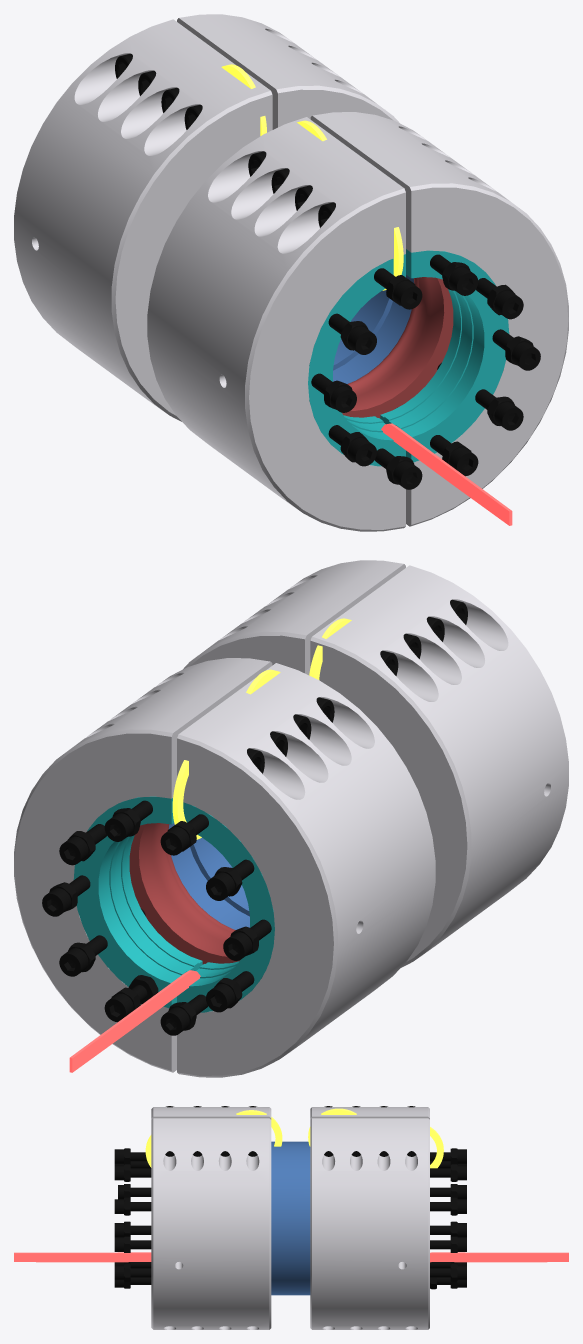
3 renders of one model, top to bottom at view 1: azimuth 30°, elevation 25°; view 2: azimuth 150°, elevation 25°; view 3: azimuth 270°, elevation 25°, orthographic. The views are drawn at different scales.
Visible parts, largest first — view 1: clamshell.001, clamshell.003, clamshell.000, spigot ring 0, clamshell.002, radial wedge seal 0, spigot ring 1, joining stock, path1011, joining stock cutaway, bolts_zl.006, bolts_zl.003 (+8 smaller); view 2: clamshell.003, clamshell.001, clamshell.002, spigot ring 2, clamshell.000, radial wedge seal 1, spigot ring 3, path1011, joining stock, joining stock cutaway, bolts_zr.004, bolts_zr.001 (+9 smaller); view 3: clamshell.000, clamshell.002, joining stock cutaway, path1011, joining stock, clamshell.001, clamshell.003, bolts_zl.003, bolts_zl.006, bolts_zr.004, bolts_zr.007, bolts_zl.004 (+10 smaller).
Boxes of the visible parts, box(x1,y1,x2,y2) form: clamshell.001: box(147, 117, 405, 531); clamshell.003: box(14, 19, 272, 421); clamshell.000: box(310, 112, 568, 526); spigot ring 0: box(380, 249, 509, 462); clamshell.002: box(177, 14, 399, 129); radial wedge seal 0: box(342, 277, 453, 418); spigot ring 1: box(308, 254, 405, 466); joining stock: box(333, 275, 414, 383); path1011: box(381, 423, 512, 525); joining stock cutaway: box(333, 308, 390, 379); bolts_zl.006: box(437, 362, 523, 430); bolts_zl.003: box(430, 254, 478, 295); clamshell.003: box(177, 663, 435, 1077); clamshell.001: box(310, 565, 568, 967); clamshell.002: box(14, 658, 272, 1072); spigot ring 2: box(73, 796, 202, 1008); clamshell.000: box(183, 560, 405, 675); radial wedge seal 1: box(129, 823, 239, 964); spigot ring 3: box(177, 802, 274, 1012); path1011: box(69, 970, 200, 1072); joining stock: box(168, 823, 249, 929); joining stock cutaway: box(171, 846, 249, 926); bolts_zr.004: box(59, 908, 145, 976); bolts_zr.001: box(206, 971, 254, 1012); clamshell.000: box(151, 1118, 271, 1329); clamshell.002: box(310, 1118, 429, 1329); joining stock cutaway: box(271, 1147, 310, 1295); path1011: box(14, 1252, 568, 1262); joining stock: box(271, 1141, 310, 1288); clamshell.001: box(151, 1107, 271, 1119); clamshell.003: box(310, 1107, 429, 1119); bolts_zl.003: box(114, 1165, 151, 1180); bolts_zl.006: box(114, 1265, 151, 1280); bolts_zr.004: box(430, 1265, 466, 1280); bolts_zr.007: box(430, 1165, 466, 1180); bolts_zl.004: box(114, 1199, 151, 1213).
Bounding box in the file's own units: 242 × 248 × 602.
